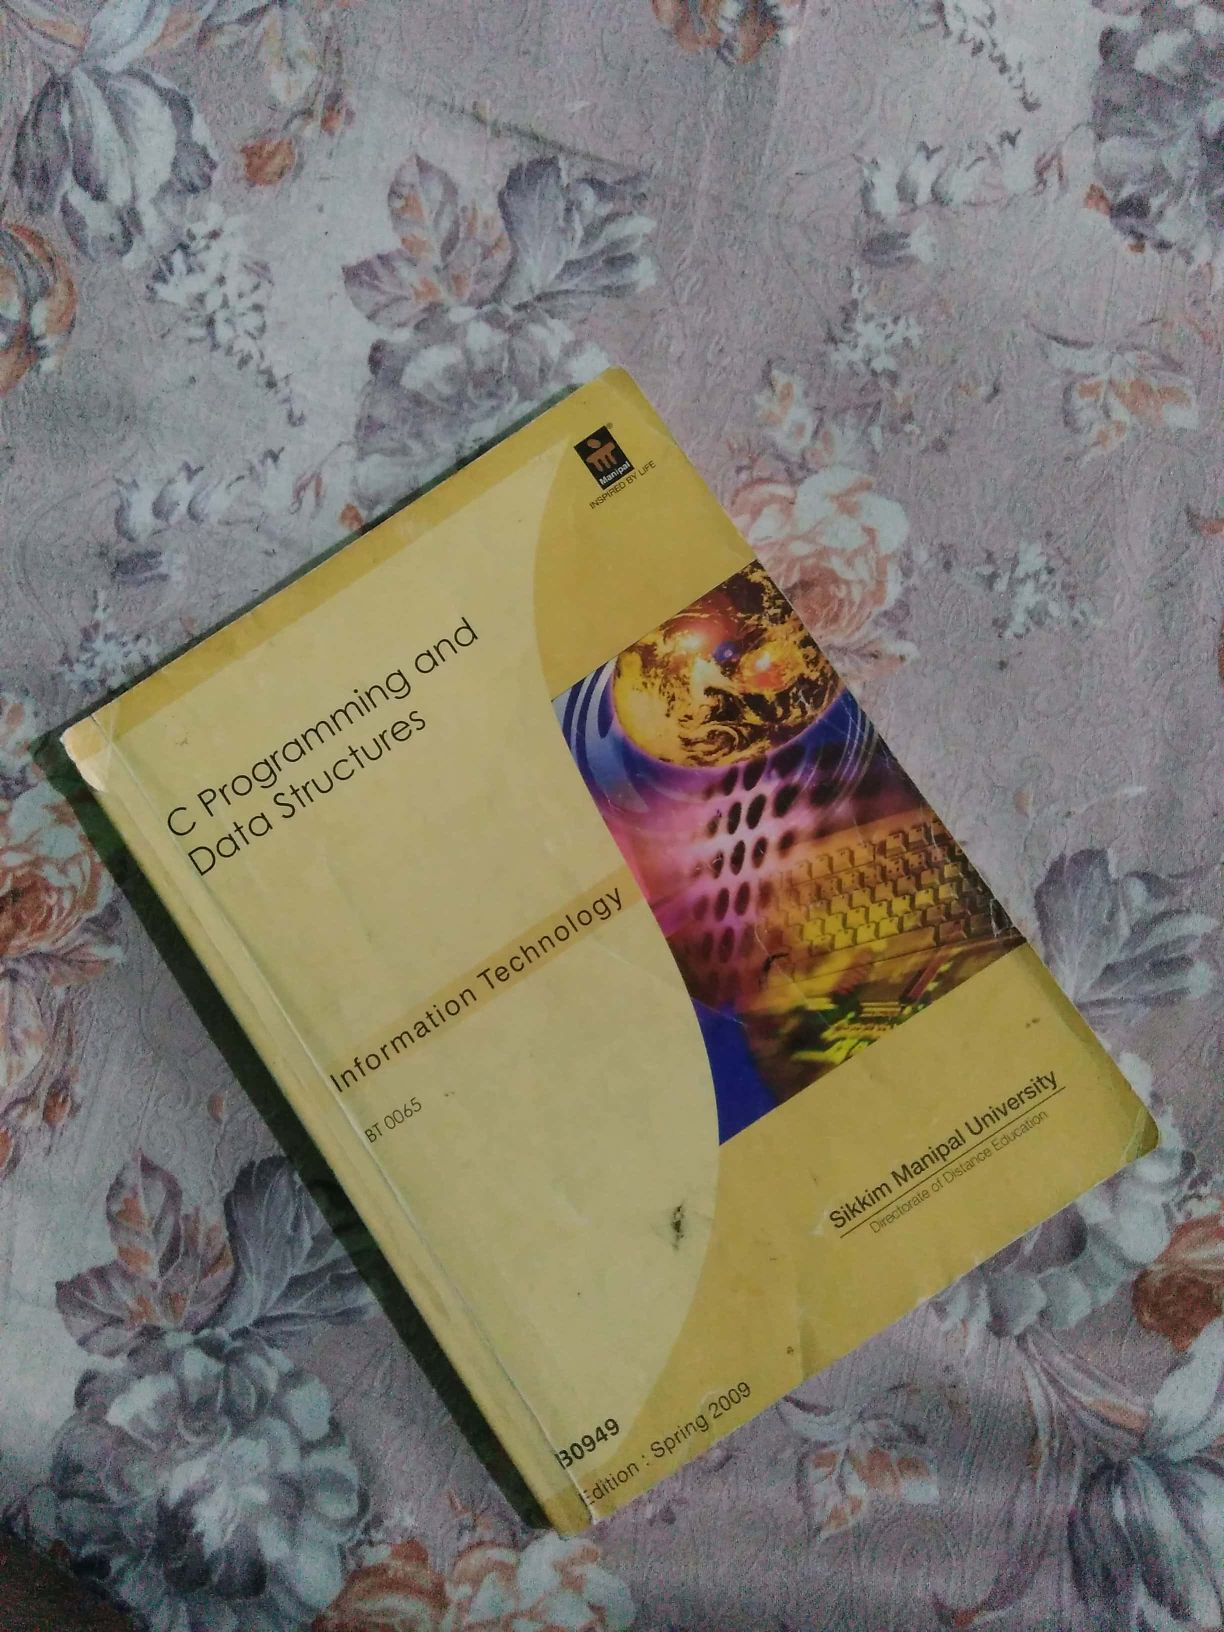clang: (48, 407, 1161, 1507)
